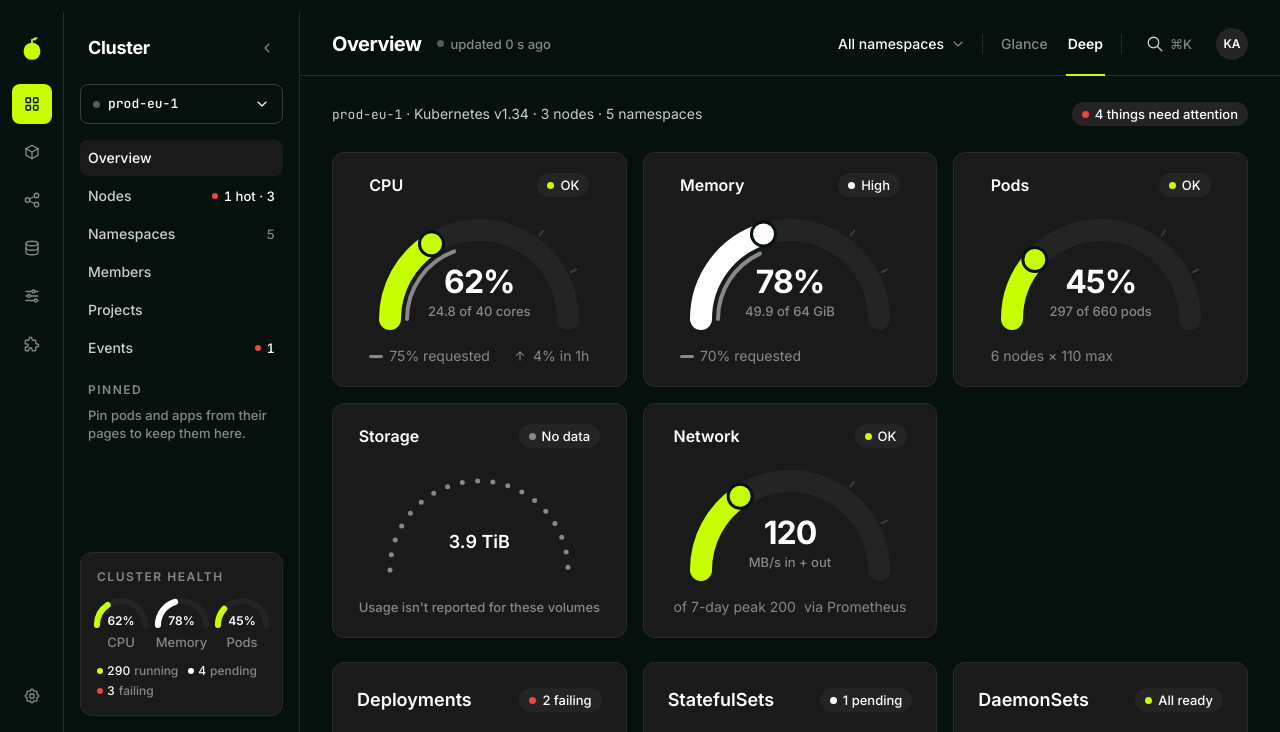
Test case: Shell (Deep mode) › collapses the panel into the rail and remembers it
Step 1. Click the button named "Collapse panel" → (267, 48), box [251,32,283,64]
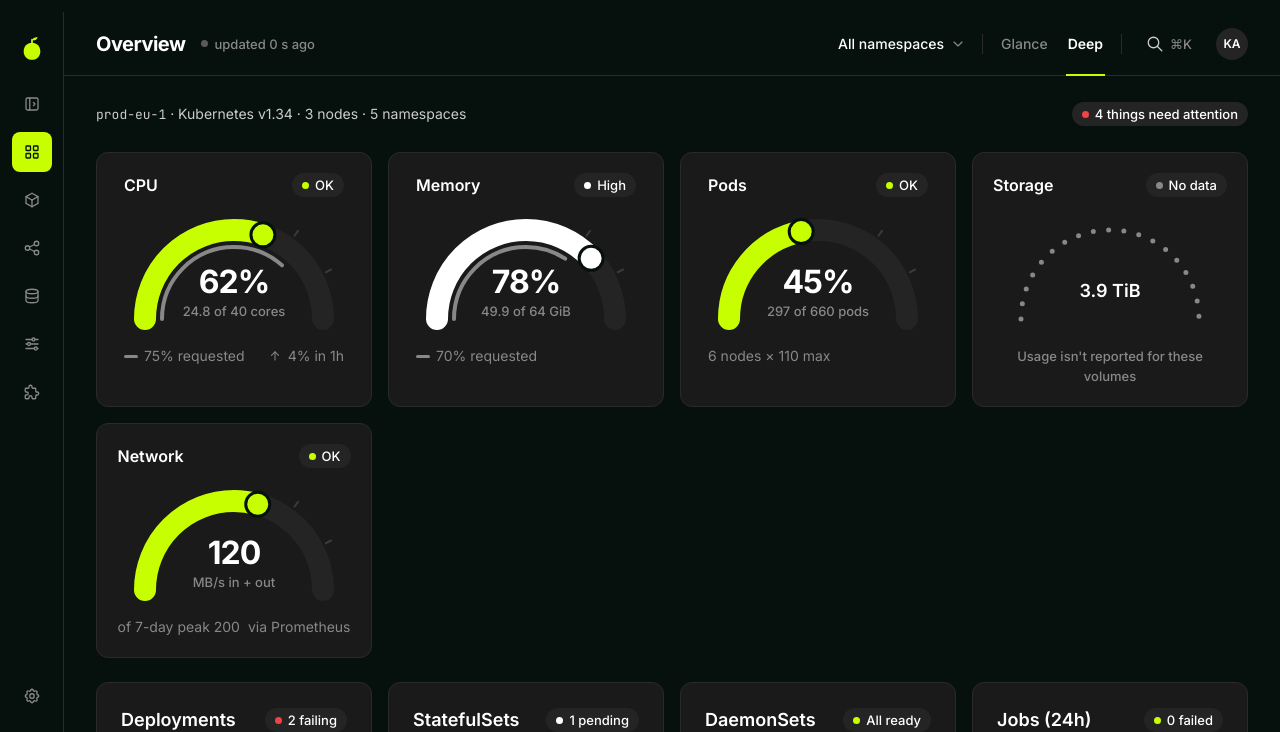
Step 2. Click the button named "Expand panel" → (32, 104), box [12,84,52,124]
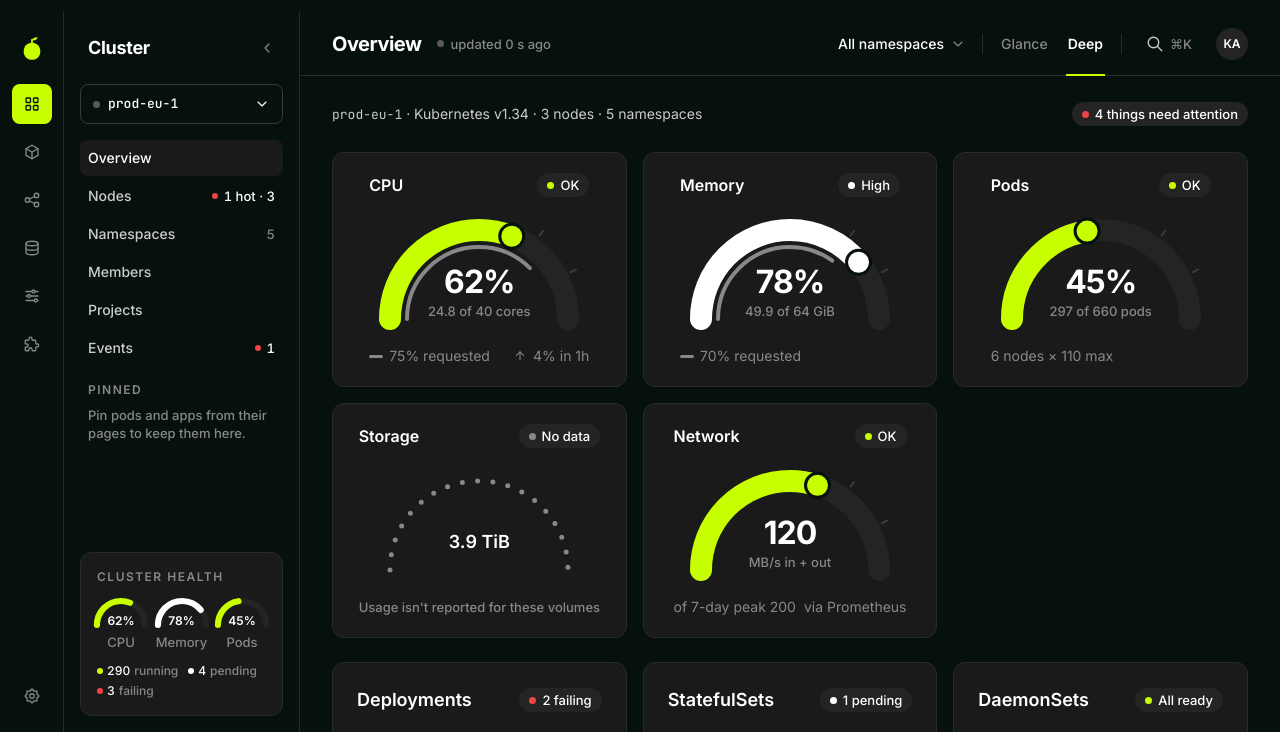
Now the element named "Cluster panel" is shown, box [64,12,300,731]
